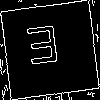E: (25, 24, 62, 75)
